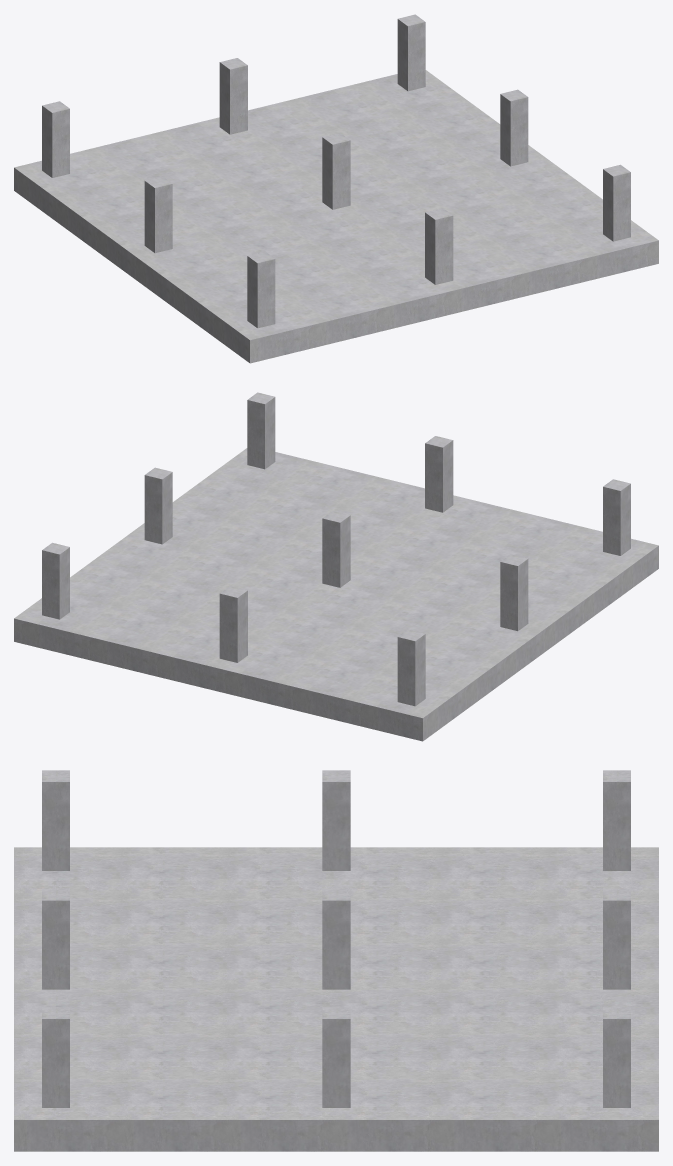
The model's file is slab.glb.
The picture shows the model from 3 angles, top to bottom: view 1: azimuth 30°, elevation 25°; view 2: azimuth 150°, elevation 25°; view 3: azimuth 270°, elevation 25°; orthographic projection. The views are drawn at different scales.
Parts seen in each view (by area): view 1: 平板式筏板, 柱; view 2: 平板式筏板, 柱; view 3: 平板式筏板, 柱.
Part boxes in pixels (x1,y1,x2,y2): 平板式筏板: (14, 70, 658, 363); 柱: (42, 14, 630, 328); 平板式筏板: (14, 448, 658, 741); 柱: (42, 392, 630, 706); 平板式筏板: (14, 847, 658, 1151); 柱: (42, 770, 630, 1107).
Bounding box in the file's own units: 9.2 × 1.9 × 9.2.
2 materials, 2 textured.
